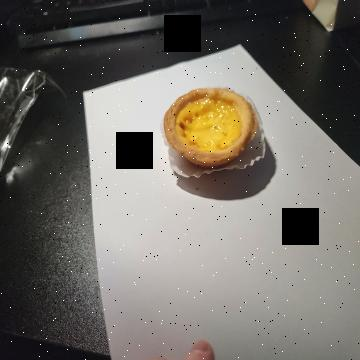EggTart: (163, 87, 257, 171)
